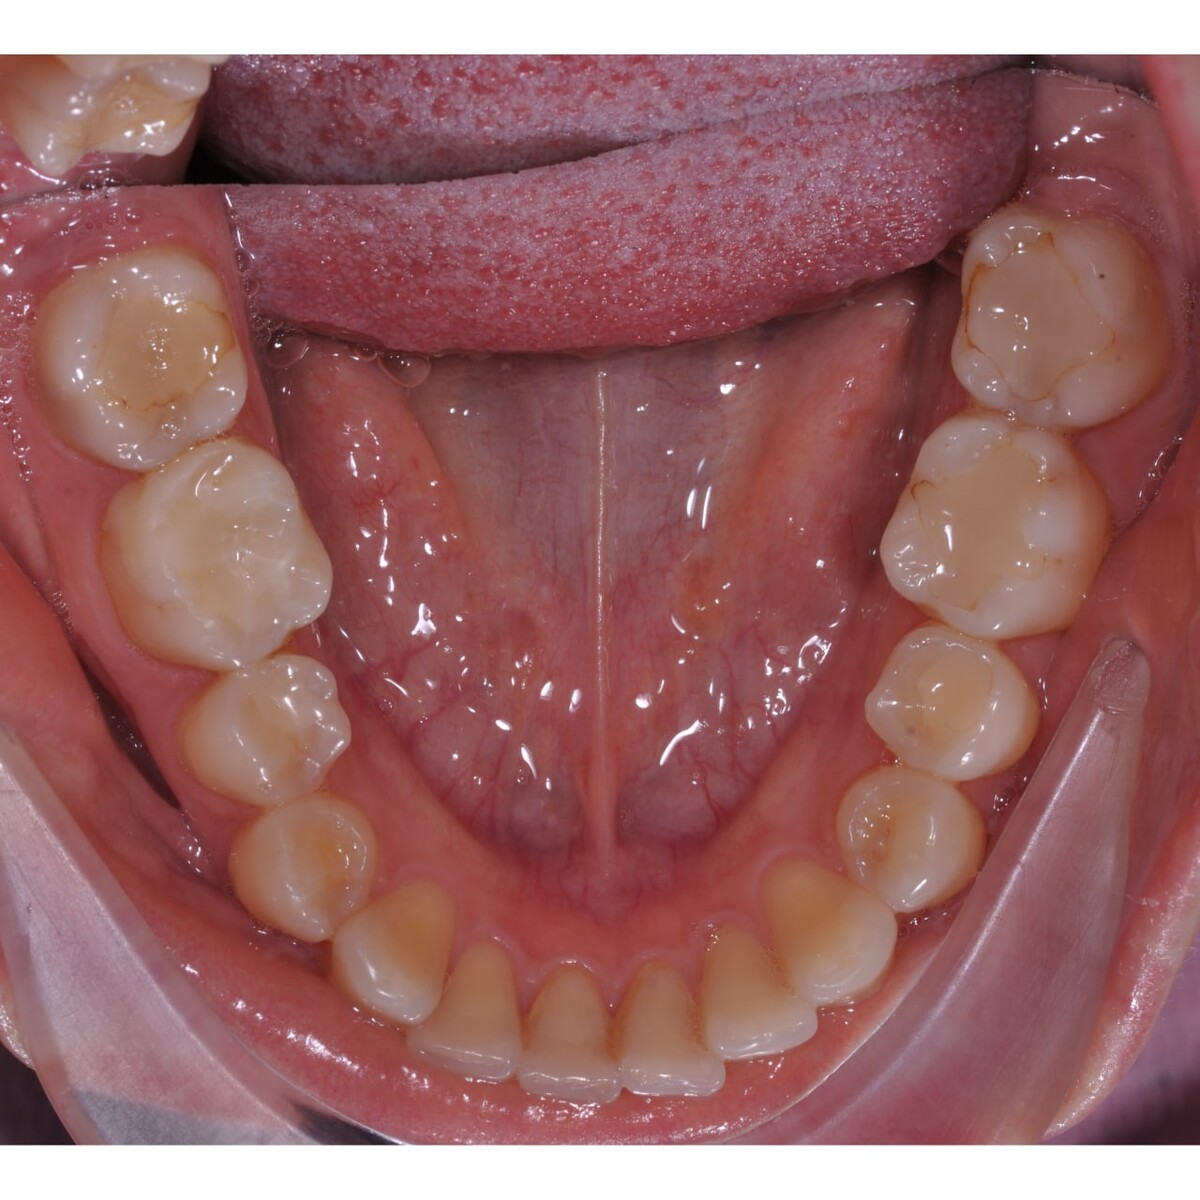LL1BC_healthy: (838, 773, 989, 911)
LL1M_decay: (881, 412, 1103, 631)
LL2BC_healthy: (867, 624, 1042, 779)
LL2M_decay: (962, 212, 1167, 414)
LLCI_healthy: (618, 965, 725, 1098)
LLC_healthy: (768, 860, 895, 1001)
LLLI_healthy: (696, 923, 815, 1054)
LR1BC_healthy: (231, 799, 373, 940)
LR1M_healthy: (123, 453, 331, 653)
LR2BC_healthy: (187, 666, 341, 804)
LR2M_decay: (57, 252, 251, 452)
LRCI_healthy: (526, 966, 621, 1112)
LRC_healthy: (348, 882, 451, 1033)
LRLI_healthy: (444, 943, 523, 1089)
